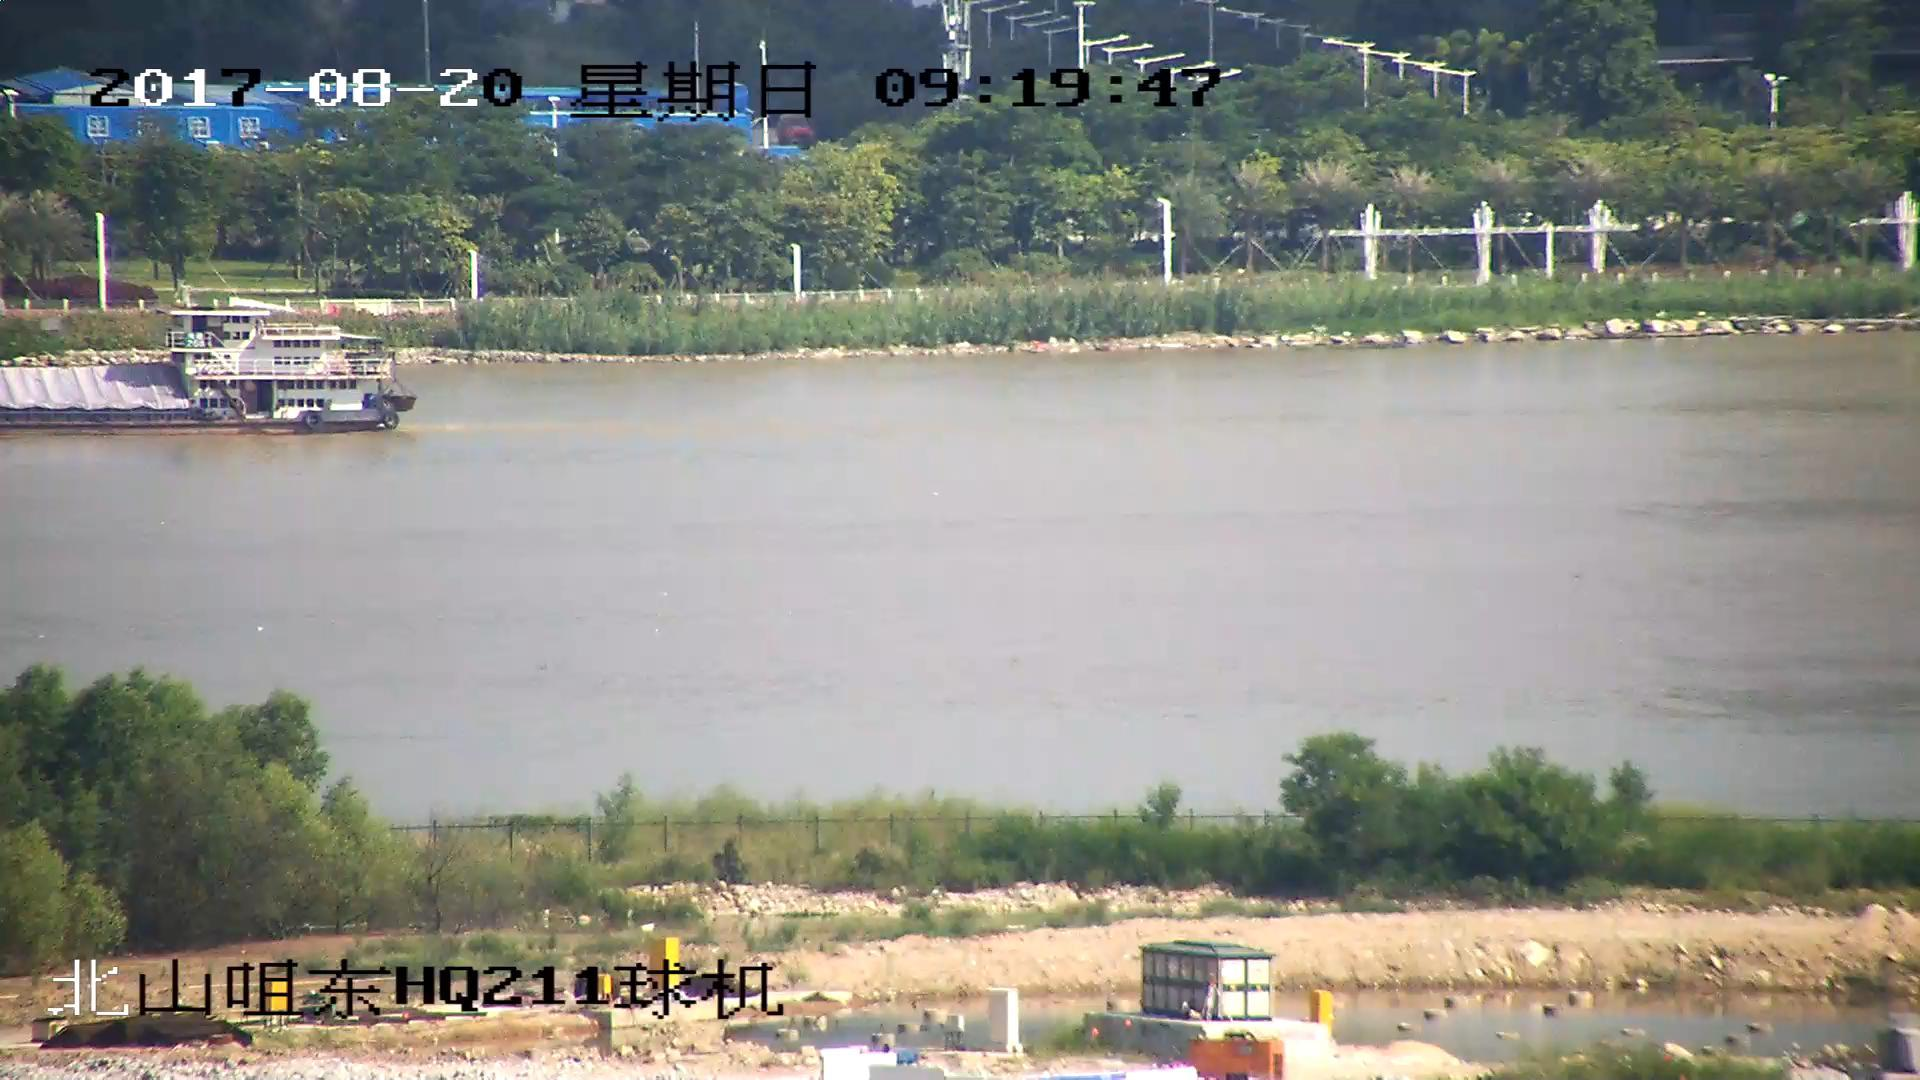Ship: (3, 302, 415, 436)
